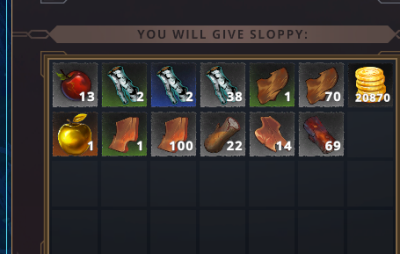birch log: (150, 62, 196, 108), (200, 62, 246, 108), (102, 63, 147, 107)
durable hide: (249, 62, 295, 108), (299, 62, 344, 107)
gold: (348, 62, 394, 107)
spruce log: (200, 111, 245, 156)
strong hide: (101, 111, 148, 156), (151, 111, 195, 156)
tough hide: (250, 111, 295, 155)
yew log: (299, 111, 344, 157)
